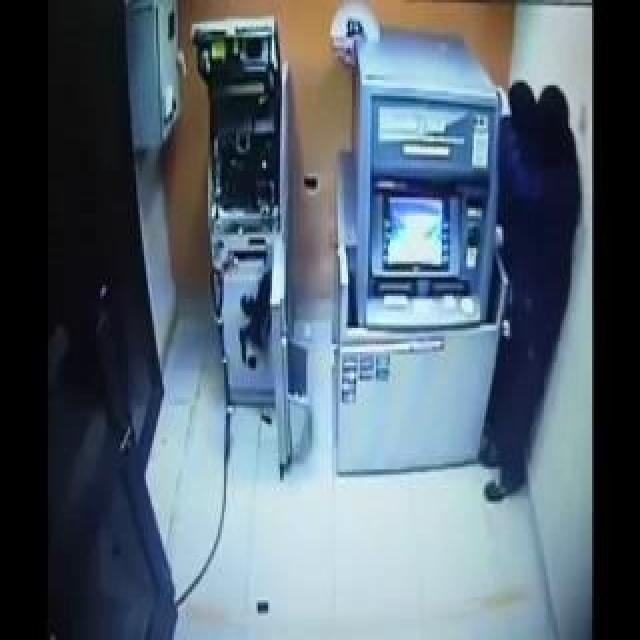thief: (498, 73, 573, 233)
